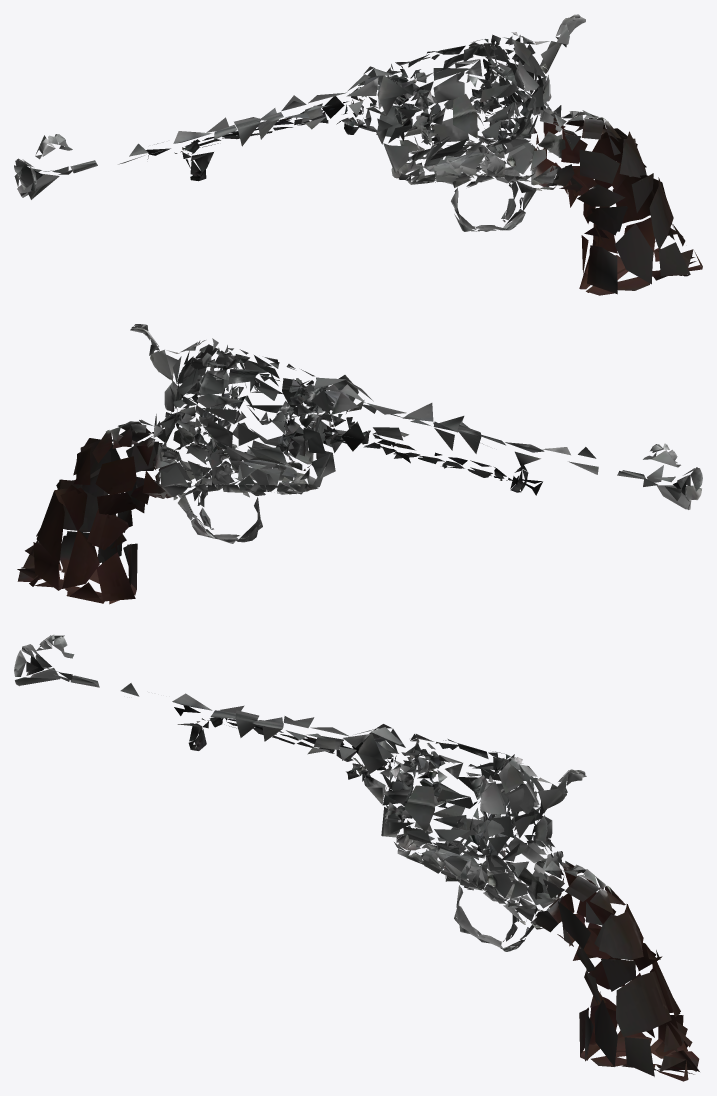
File: revolver.glb
3 renders of one model, top to bottom at view 1: azimuth 30°, elevation 25°; view 2: azimuth 150°, elevation 25°; view 3: azimuth 330°, elevation 25°, orthographic.
Parts seen in each view (by area): view 1: Mesh_0; view 2: Mesh_0; view 3: Mesh_0.
Boxes of the visible parts, left/top/right/bottom form: Mesh_0: left=14, top=14, right=702, bottom=295; Mesh_0: left=17, top=324, right=702, bottom=604; Mesh_0: left=14, top=634, right=699, bottom=1081.
Bounding box in the file's own units: 1.9 × 0.768 × 0.2567.
Materials: 1 (1 with a texture image).
